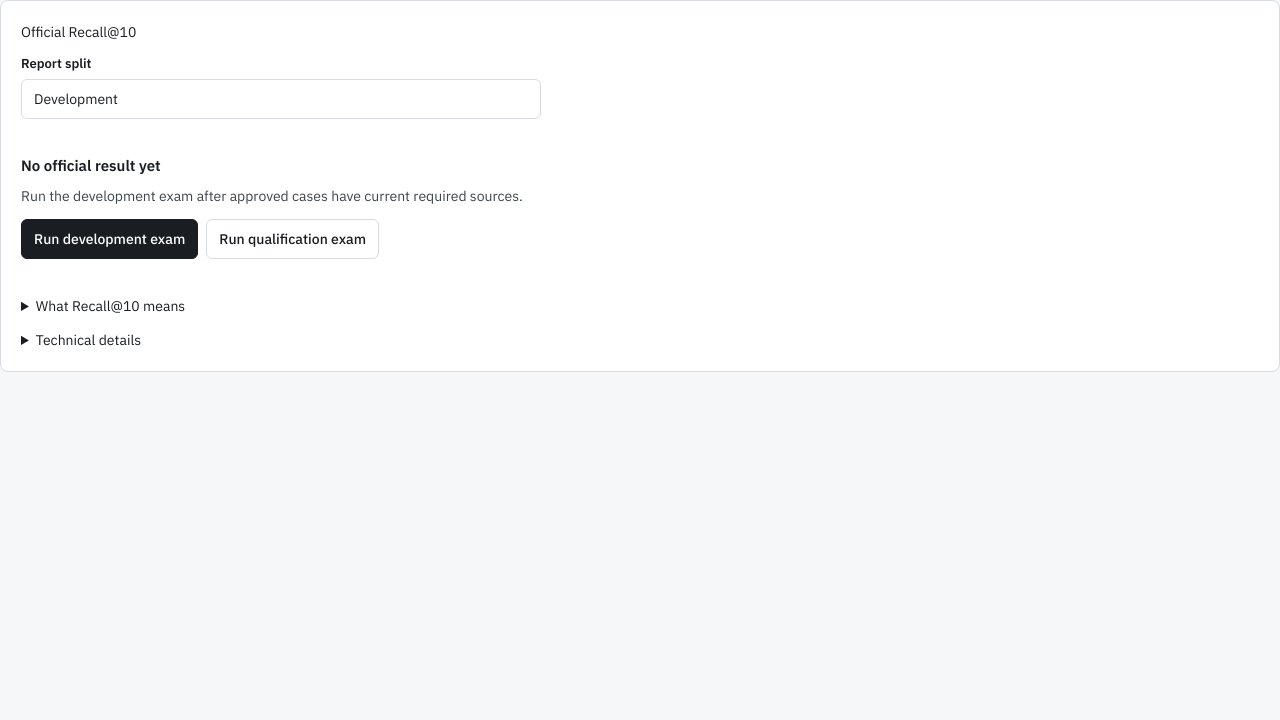
Test: EvaluationExamBoard › links a one-active conflict to the stored exam
Click the button "Run development exam" at (110,239), box left=21, top=219, right=198, bottom=259
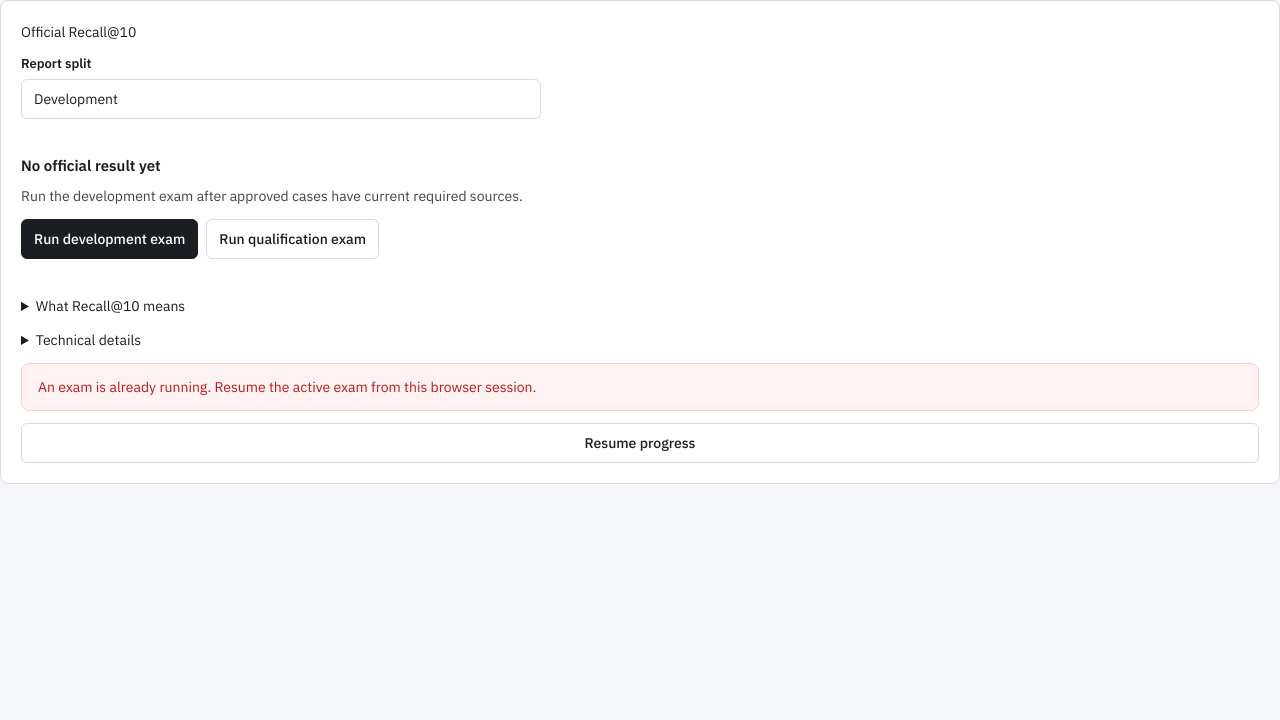
Result: the text "An exam is already running. Resume the active exam from this browser session." is shown at left=21, top=363, right=1259, bottom=411
Click the button "Resume progress" at (640,443), box left=21, top=423, right=1259, bottom=463
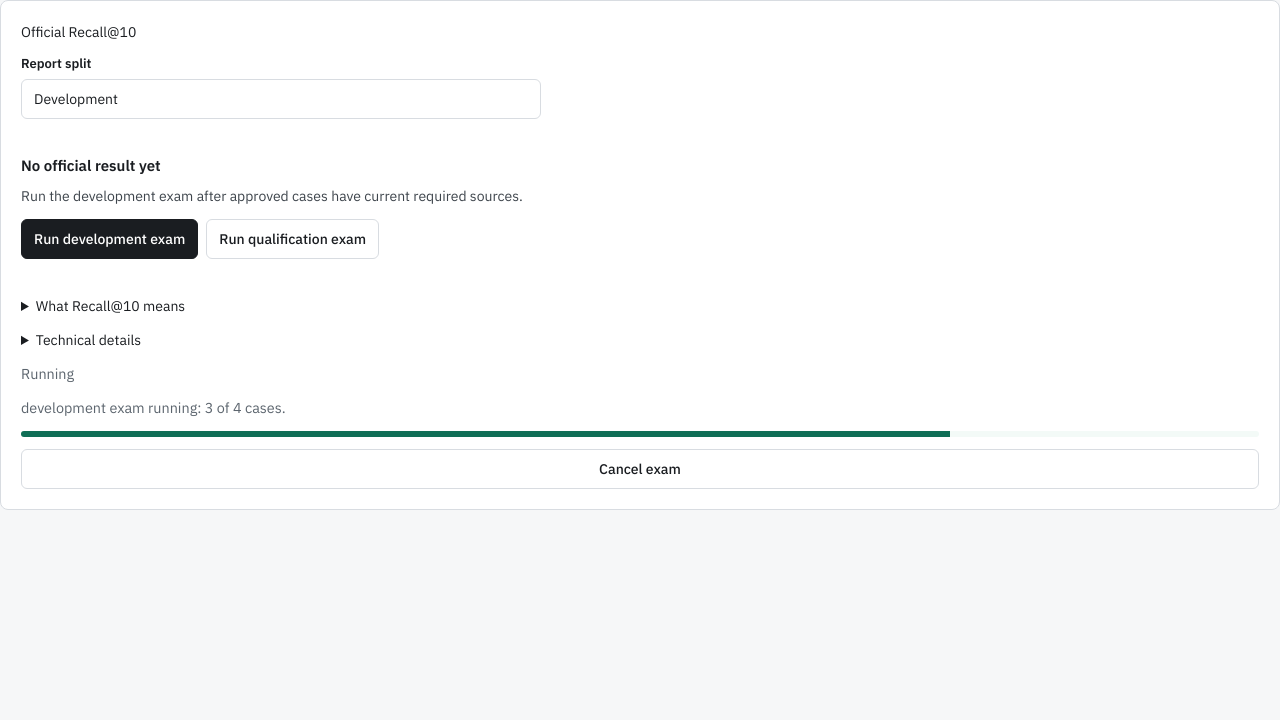
Result: the text "development exam running: 3 of 4 cases." is shown at left=21, top=398, right=286, bottom=417
